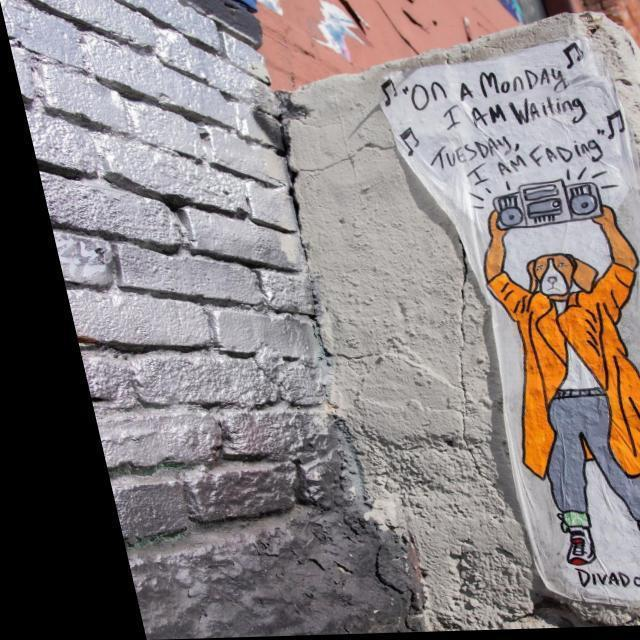nonspitting: (382, 43, 626, 185), (576, 566, 640, 588)
spitting: (469, 164, 640, 565)
